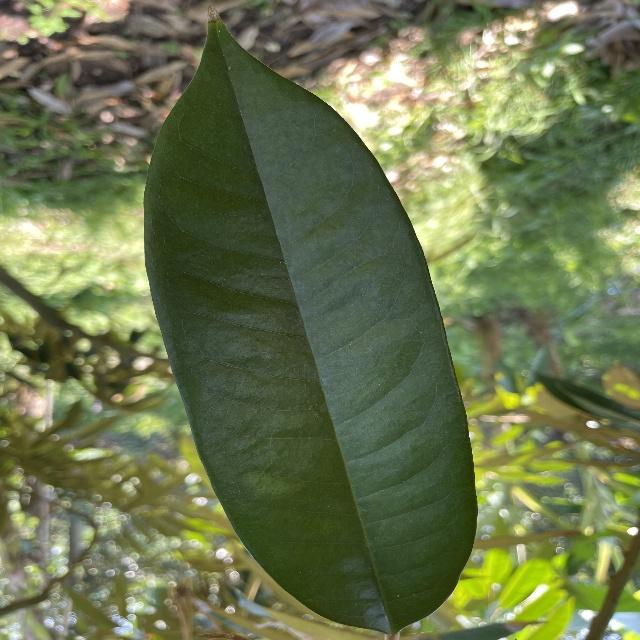No Disease: (133, 2, 485, 640)
